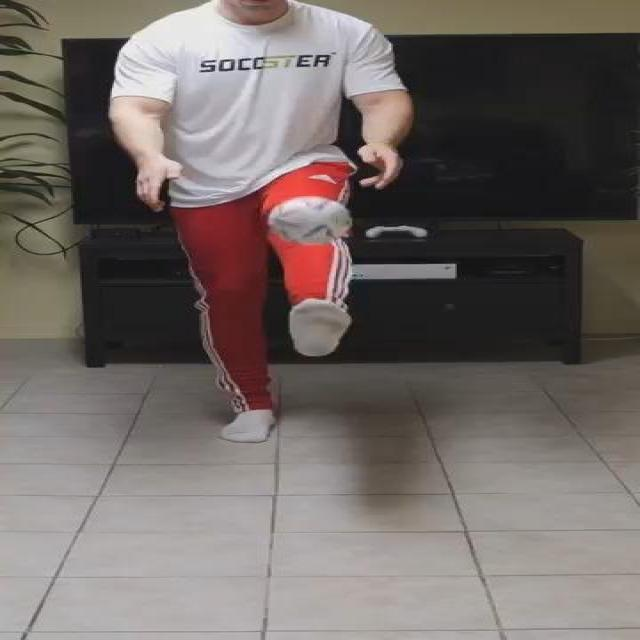Soccer Ball: (266, 197, 354, 246)
